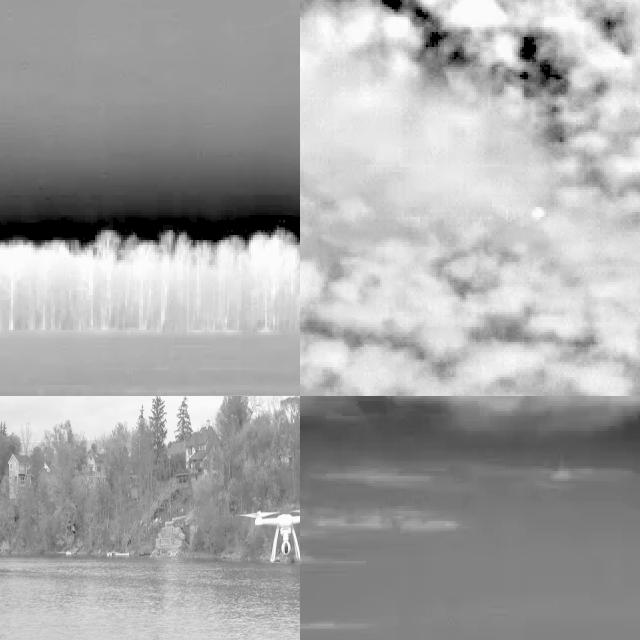0: (528, 197, 562, 235)
drone: (252, 507, 300, 568)
